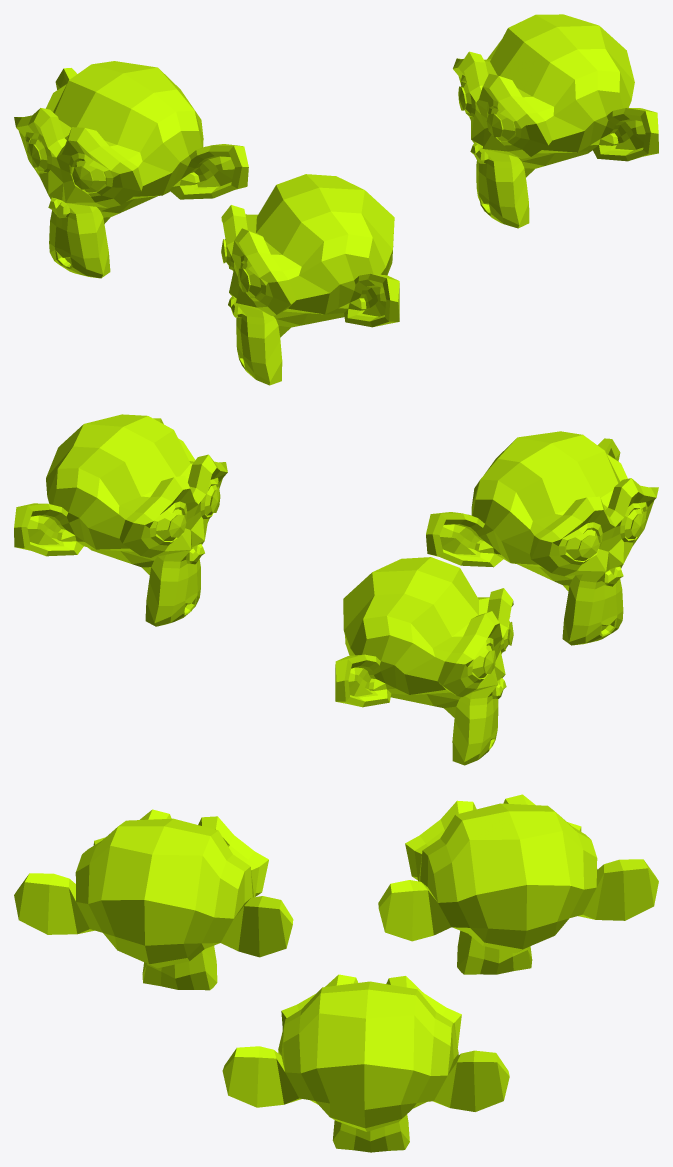
3 views of the same model, one above another, from view 1: azimuth 30°, elevation 25°; view 2: azimuth 150°, elevation 25°; view 3: azimuth 270°, elevation 25° (orthographic). The views are drawn at different scales.
Visible parts, largest first — view 1: Suzanne, Suzanne.002, Suzanne.001; view 2: Suzanne.001, Suzanne.002, Suzanne; view 3: Suzanne.001, Suzanne, Suzanne.002.
Boxes of the visible parts, bbox=[...] form: Suzanne: bbox=[14, 61, 248, 278]; Suzanne.002: bbox=[453, 14, 658, 228]; Suzanne.001: bbox=[221, 174, 399, 385]; Suzanne.001: bbox=[426, 431, 658, 645]; Suzanne.002: bbox=[14, 414, 227, 626]; Suzanne: bbox=[335, 557, 513, 765]; Suzanne.001: bbox=[14, 809, 293, 990]; Suzanne: bbox=[378, 794, 658, 974]; Suzanne.002: bbox=[222, 974, 509, 1152].
Bounding box in the file's own units: 3.03 × 1.05 × 3.15.
